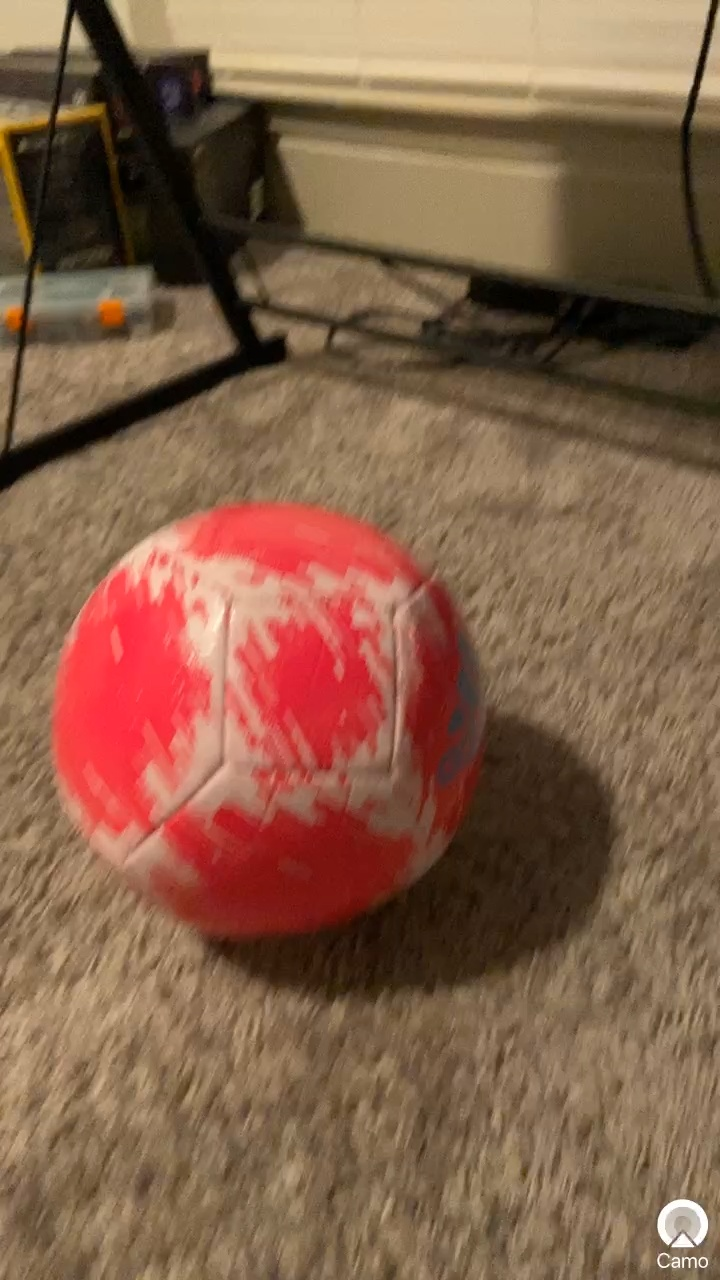Soccer_Ball: (45, 495, 496, 949)
